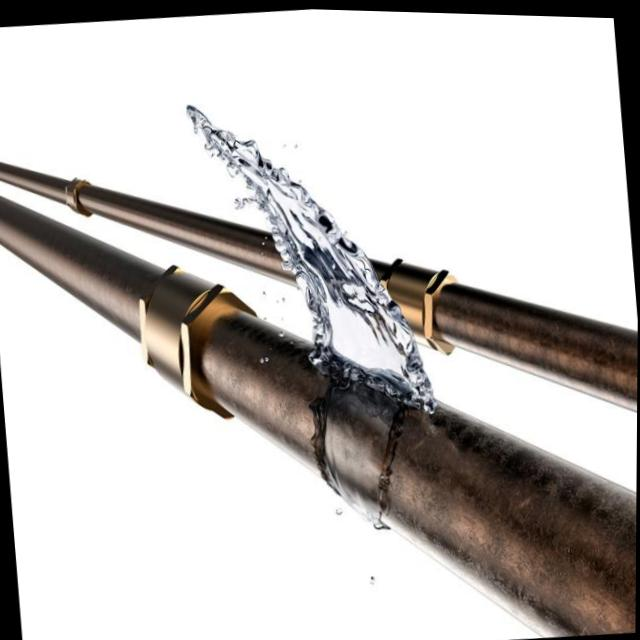leak: (194, 111, 435, 410)
